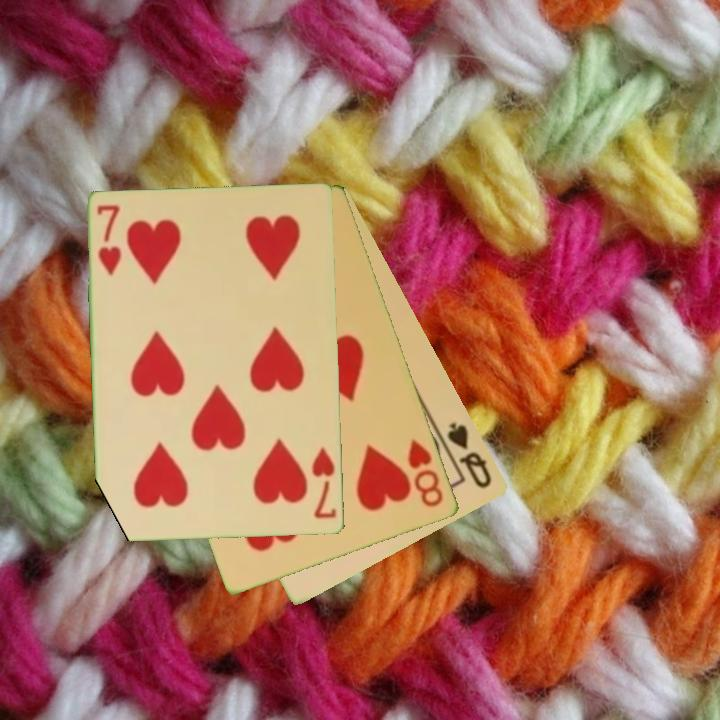7h: (308, 443, 339, 522), (94, 202, 124, 279)
8h: (404, 436, 447, 510)
Qs: (444, 418, 496, 492)
